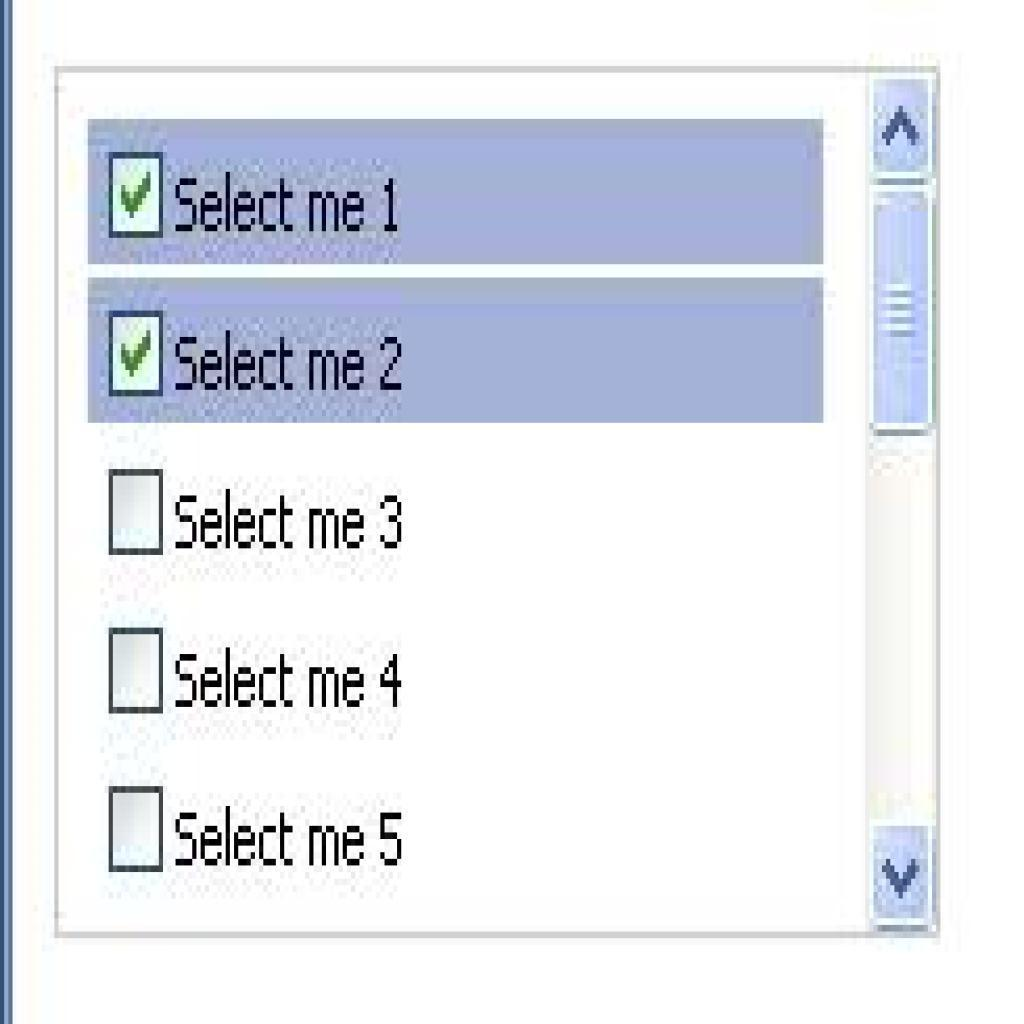checkbox: (106, 313, 165, 400), (111, 144, 166, 235), (108, 787, 163, 876), (107, 631, 165, 715), (111, 471, 163, 548)
label: (171, 804, 414, 877), (174, 172, 407, 244), (174, 488, 409, 557), (174, 648, 407, 716), (174, 332, 407, 399)
